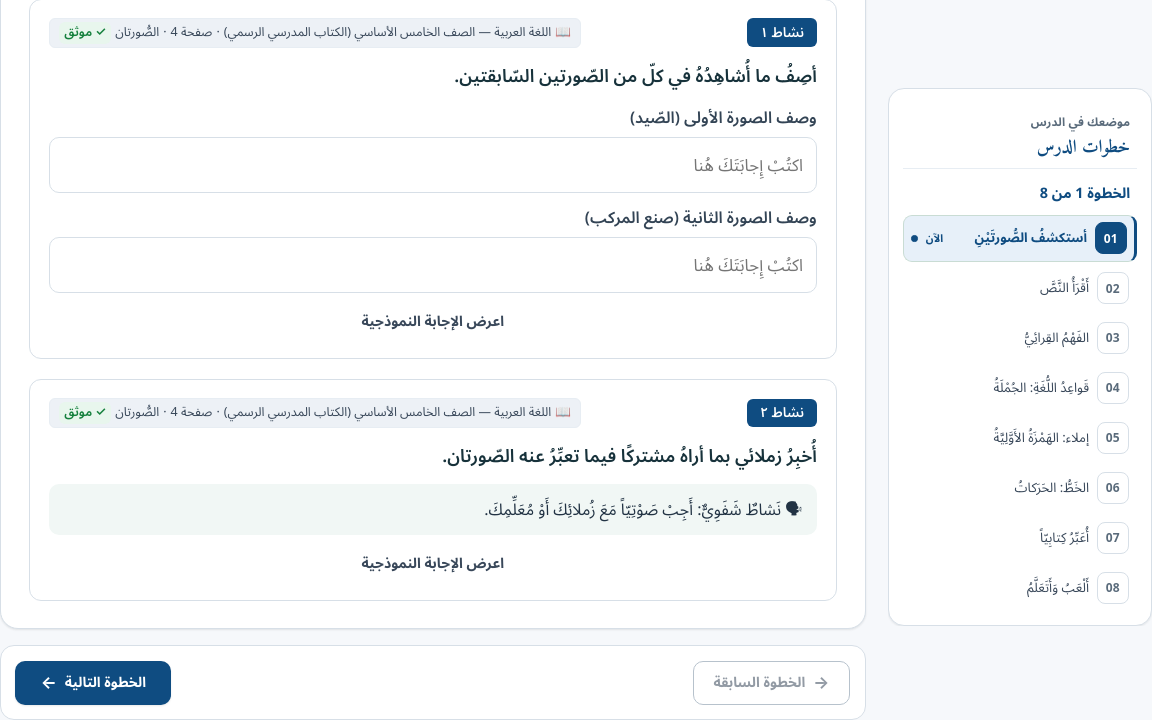
Test case: PR 3b — lesson 1: l1-s2 (listening) and l1-s5 (oral) are whole hidden steps › skips the hidden listening step with the next control
The width and height of the screenshot is (1152, 720).
(page scrolled)
expect the element with class "lesson-step-position" reads "الخطوة 1 من 8": met, box [1040,179,1130,210]
Click the button with aria-label "الانتقال إلى الخطوة 2".
click(93, 683)  # box [15,661,171,705]
(page scrolled)
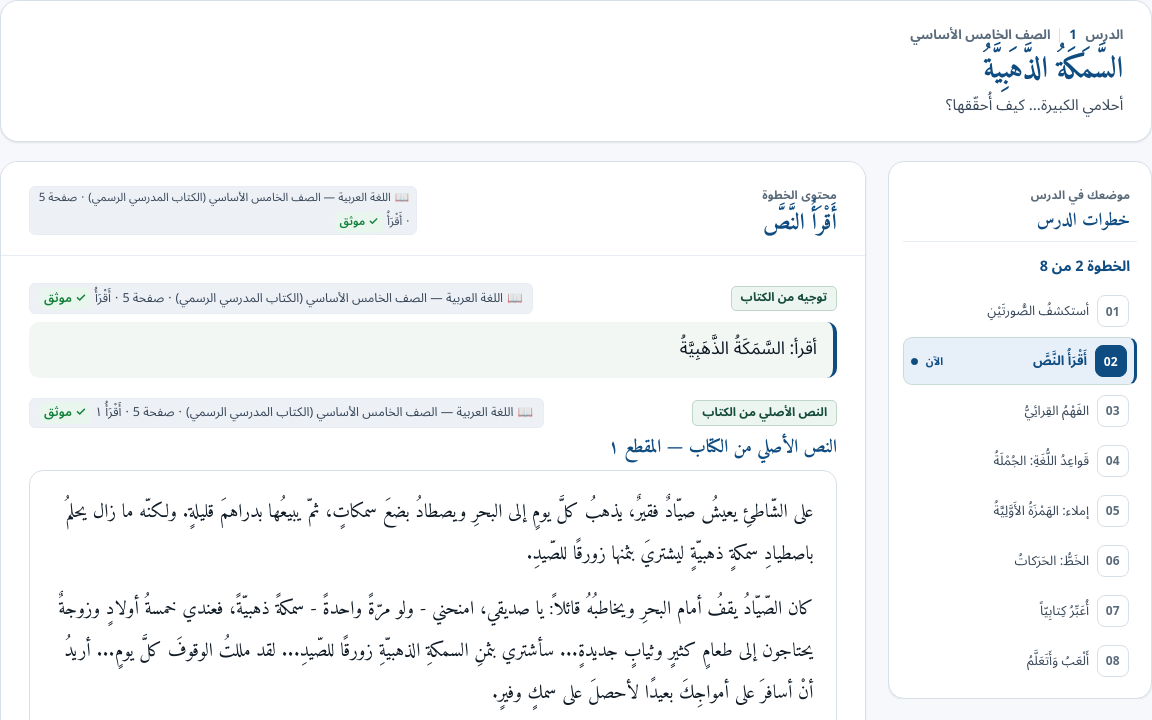
expect the element with class "lesson-step-position" reads "الخطوة 2 من 8": met, box [1040,251,1130,282]
